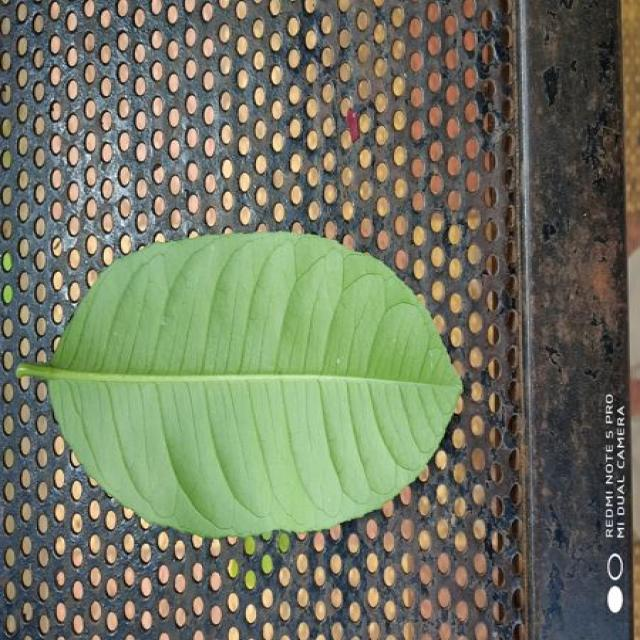badipala: (17, 235, 462, 537)
